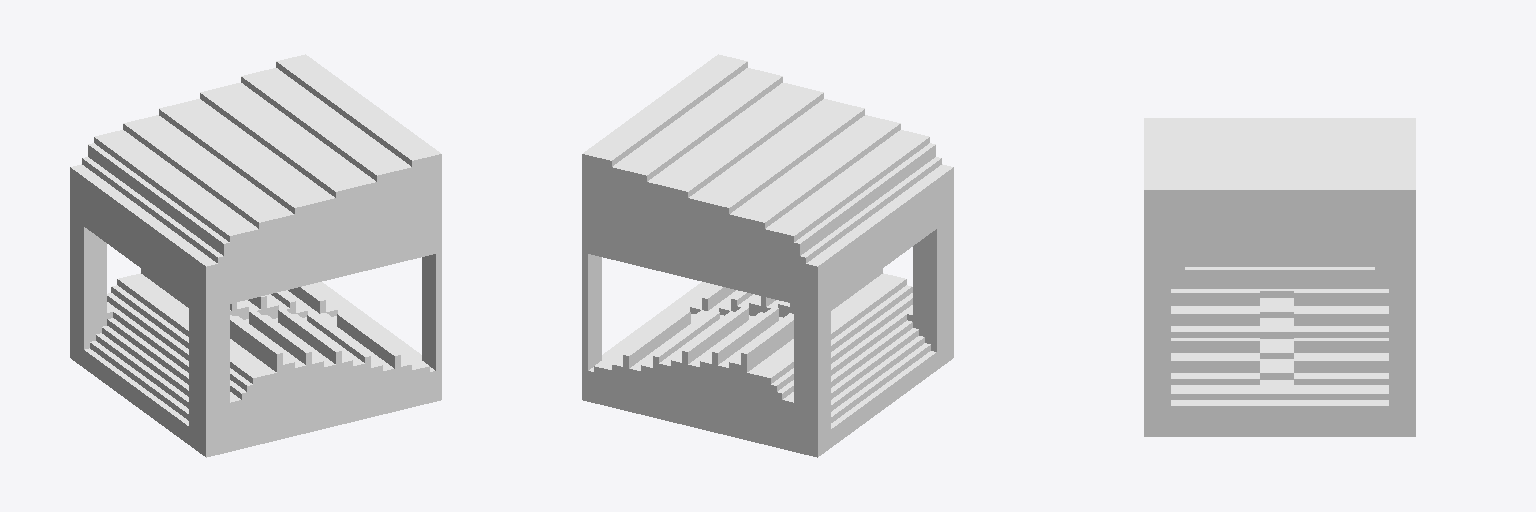
File: grandstand.obj
3 renders of one model, left to right at view 1: azimuth 30°, elevation 25°; view 2: azimuth 150°, elevation 25°; view 3: azimuth 270°, elevation 25°, orthographic.
Parts seen in each view (by area): view 1: grandstand; view 2: grandstand; view 3: grandstand.
Part boxes in pixels (x1,y1,x2,y2): grandstand: (70, 54, 441, 457); grandstand: (582, 54, 953, 457); grandstand: (1144, 118, 1415, 436).
Bounding box in the file's own units: 40 × 40 × 40.